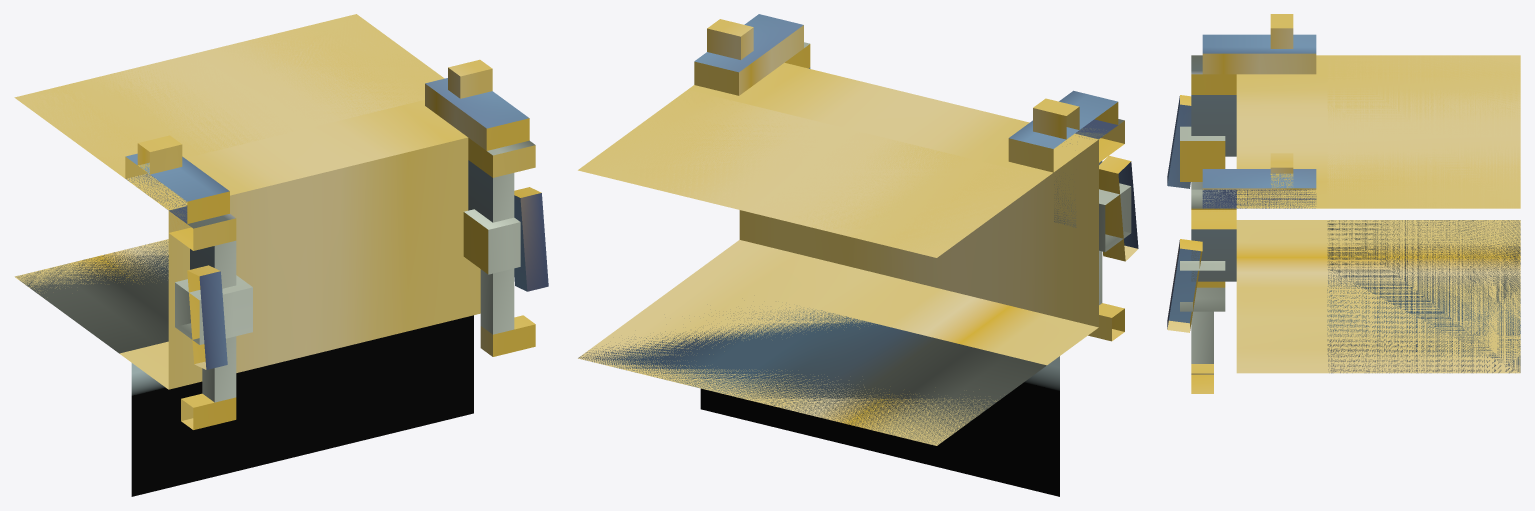
3 views of the same model, side by side, from view 1: azimuth 30°, elevation 25°; view 2: azimuth 150°, elevation 25°; view 3: azimuth 270°, elevation 25° (orthographic). The views are drawn at different scales.
Parts seen in each view (by area): view 1: frame; view 2: frame; view 3: frame.
Part boxes in pixels (x1=…): frame: x1=14, y1=14, x2=548, y2=496; frame: x1=578, y1=14, x2=1138, y2=496; frame: x1=1167, y1=14, x2=1520, y2=393.
Size of the model in its own units: 1 by 1 by 0.972.
